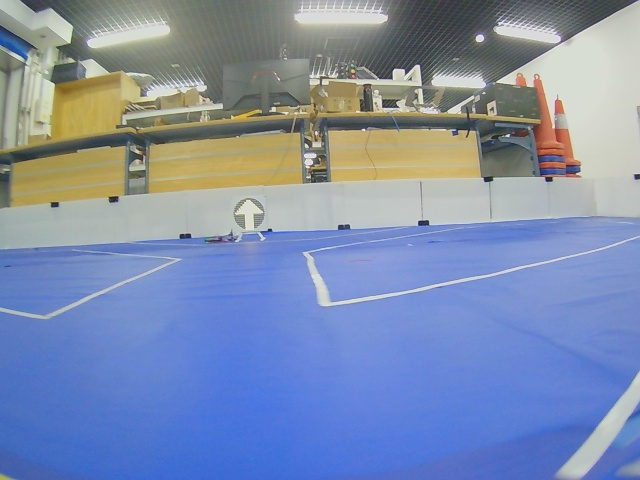straight_yellow: (235, 199, 264, 231)
